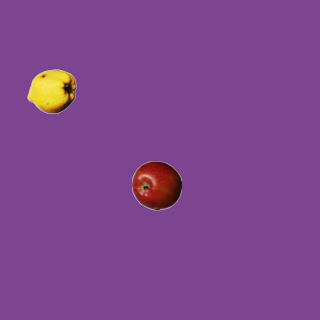Apple Braeburn: (131, 160, 181, 210)
Quince: (26, 66, 76, 116)
